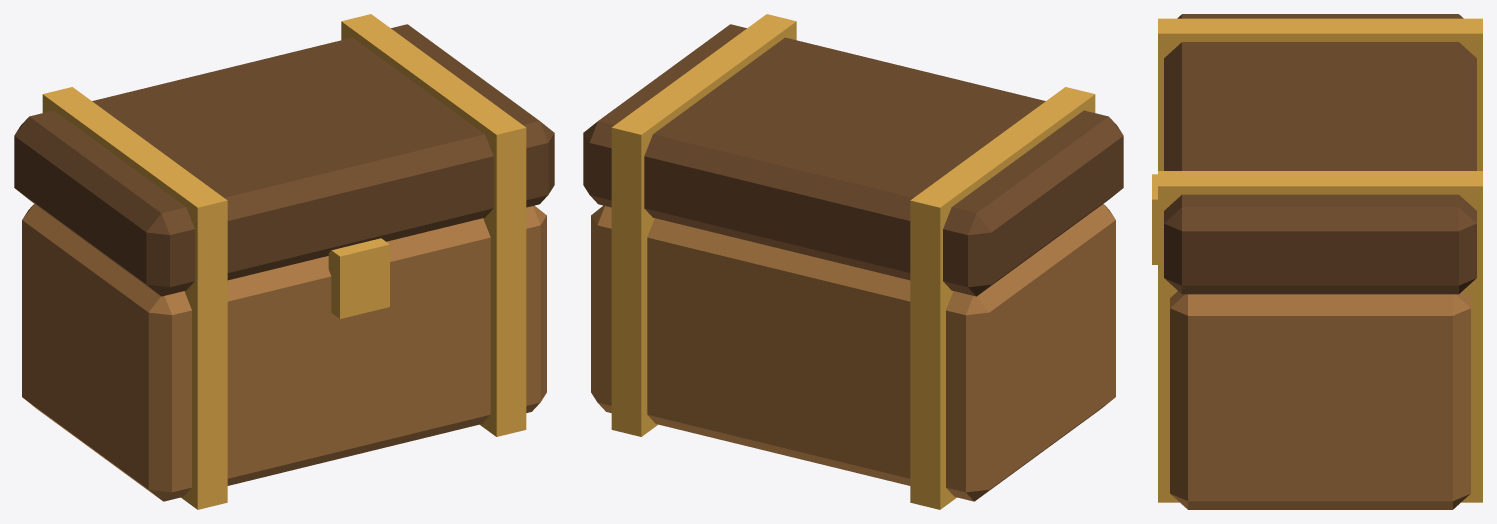
The model's file is chest.glb.
The picture shows the model from 3 angles, left to right: view 1: azimuth 30°, elevation 25°; view 2: azimuth 150°, elevation 25°; view 3: azimuth 270°, elevation 25°; orthographic projection. The views are drawn at different scales.
Parts seen in each view (by area): view 1: chest; view 2: chest; view 3: chest.
Part boxes in pixels (box(x1,y1,x2,y2)): chest: box(14, 14, 554, 509); chest: box(583, 14, 1123, 509); chest: box(1152, 14, 1482, 509).
Size of the model in its own units: 0.82 by 0.58 by 0.55.
